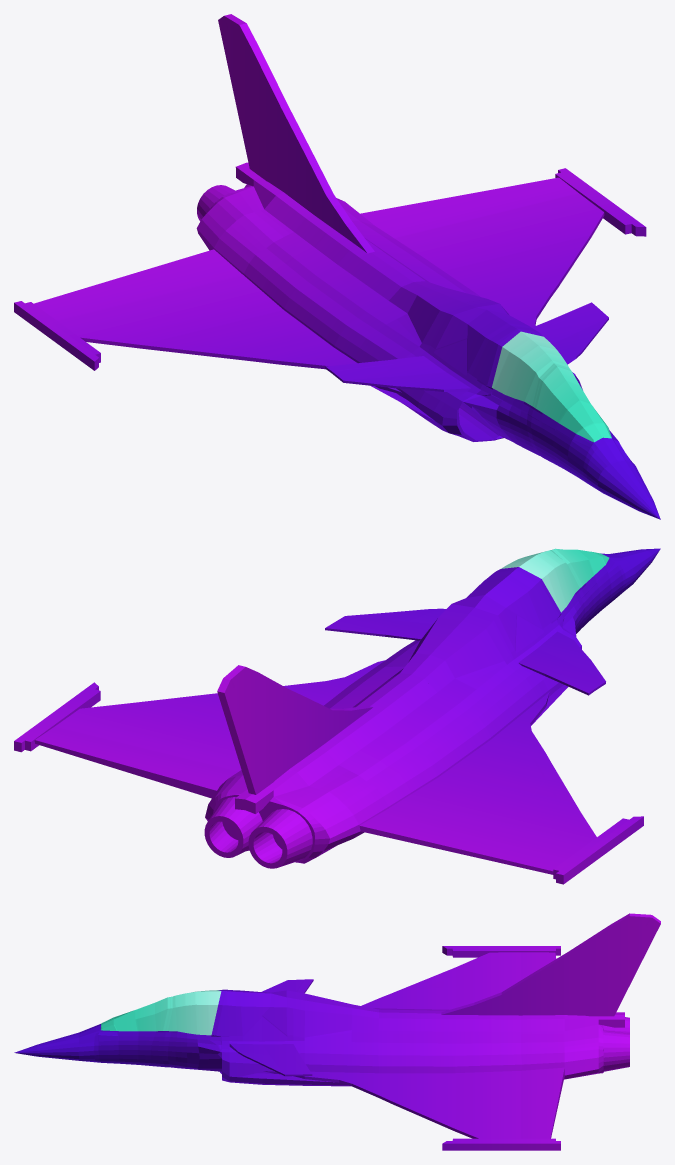
Rendered from Plane Coloured Solo.fbx.
3 renders of one model, top to bottom at view 1: azimuth 30°, elevation 25°; view 2: azimuth 150°, elevation 25°; view 3: azimuth 270°, elevation 25°, orthographic. The views are drawn at different scales.
Visible parts, largest first — view 1: Plane; view 2: Plane; view 3: Plane.
Part boxes in pixels (<box>): Plane: <box>14,14,660,519</box>; Plane: <box>14,548,660,884</box>; Plane: <box>14,913,660,1150</box>.
Size of the model in its own units: 462 by 170 by 640.
1 material, 1 textured.
